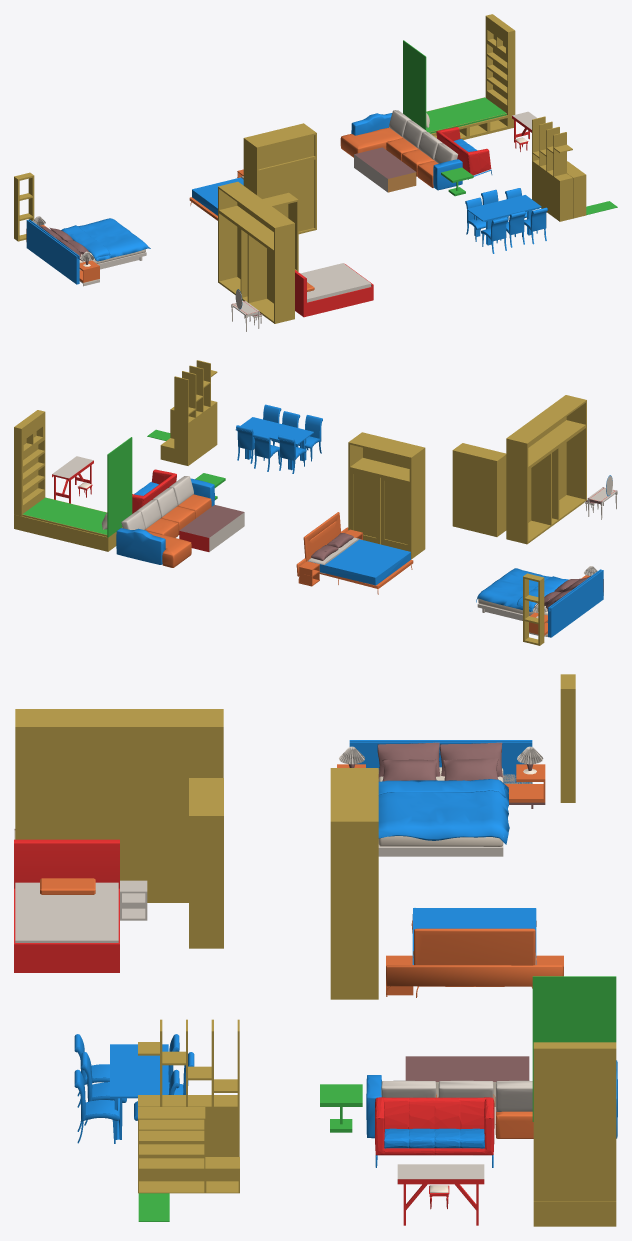
Rendered from furniture.obj.
The picture shows the model from 3 angles, top to bottom: view 1: azimuth 30°, elevation 25°; view 2: azimuth 150°, elevation 25°; view 3: azimuth 270°, elevation 25°; orthographic projection. The views are drawn at different scales.
Visible parts, largest first — view 1: 大衣柜, 榻榻米, 床_1_8_2_0m_, 衣柜_次卧, 客厅沙发, 餐柜, 餐桌椅, 床_1.5*2.0m_, 沙发大茶几, 小沙发, 主卧_书架, 衣柜_三卧 (+4 smaller); view 2: 床_1_8_2_0m_, 大衣柜, 榻榻米, 衣柜_次卧, 客厅沙发, 衣柜_三卧, 餐柜, 餐桌椅, 沙发大茶几, 主卧_书架, 工作台, 小沙发 (+2 smaller); view 3: 床_1_8_2_0m_, 大衣柜, 榻榻米, 床_1.5*2.0m_, 衣柜_次卧, 鞋柜, 小沙发, 餐桌椅, 衣柜_三卧, 餐柜, 客厅沙发, 沙发大茶几 (+5 smaller).
Part boxes in pixels (x1,y1,x2,y2): 大衣柜: [218, 181, 294, 323]; 榻榻米: [403, 14, 515, 139]; 床_1_8_2_0m_: [26, 169, 243, 286]; 衣柜_次卧: [243, 123, 316, 234]; 客厅沙发: [340, 110, 462, 190]; 餐柜: [532, 116, 572, 221]; 餐桌椅: [465, 188, 547, 253]; 床_1.5*2.0m_: [295, 263, 373, 317]; 沙发大茶几: [354, 147, 416, 192]; 小沙发: [436, 127, 492, 179]; 主卧_书架: [14, 172, 34, 241]; 衣柜_三卧: [262, 192, 298, 271]; 床_1_8_2_0m_: [296, 512, 603, 637]; 大衣柜: [506, 395, 586, 544]; 榻榻米: [14, 410, 132, 551]; 衣柜_次卧: [348, 432, 425, 559]; 客厅沙发: [116, 476, 214, 567]; 衣柜_三卧: [452, 443, 506, 536]; 餐柜: [174, 360, 217, 465]; 餐桌椅: [235, 404, 322, 473]; 沙发大茶几: [179, 505, 244, 551]; 主卧_书架: [523, 573, 544, 645]; 工作台: [52, 456, 93, 503]; 小沙发: [132, 469, 176, 513]; 床_1_8_2_0m_: [337, 740, 563, 997]; 大衣柜: [15, 709, 223, 902]; 榻榻米: [532, 976, 616, 1226]; 床_1.5*2.0m_: [14, 839, 119, 972]; 衣柜_次卧: [330, 768, 378, 999]; 鞋柜: [138, 1107, 239, 1193]; 小沙发: [375, 1097, 494, 1167]; 餐桌椅: [74, 1034, 194, 1143]; 衣柜_三卧: [189, 778, 223, 948]; 餐柜: [138, 1019, 239, 1156]; 客厅沙发: [366, 1060, 617, 1138]; 沙发大茶几: [405, 1056, 529, 1106].
Bounding box in the file's own units: 593 × 114 × 345.
